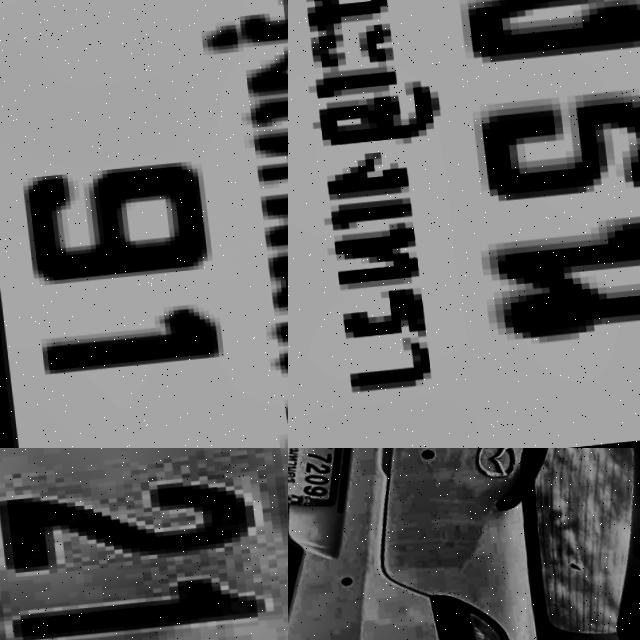license-plate: (288, 0, 640, 448), (0, 0, 288, 448), (0, 448, 288, 640), (288, 448, 364, 512)
